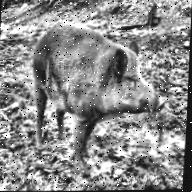boar: (12, 2, 182, 167)
